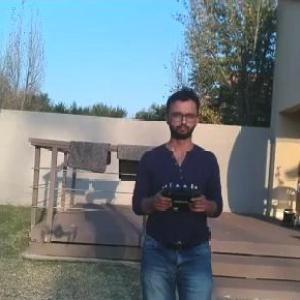follow: (127, 81, 227, 299)
